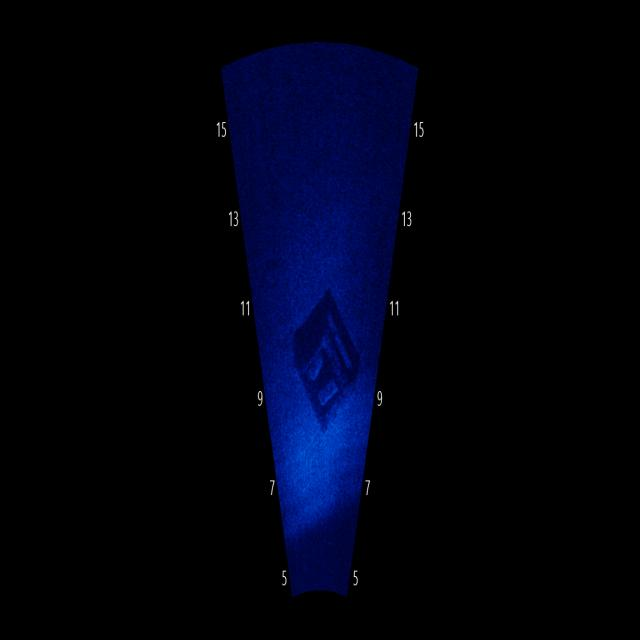square: (284, 277, 368, 433)
